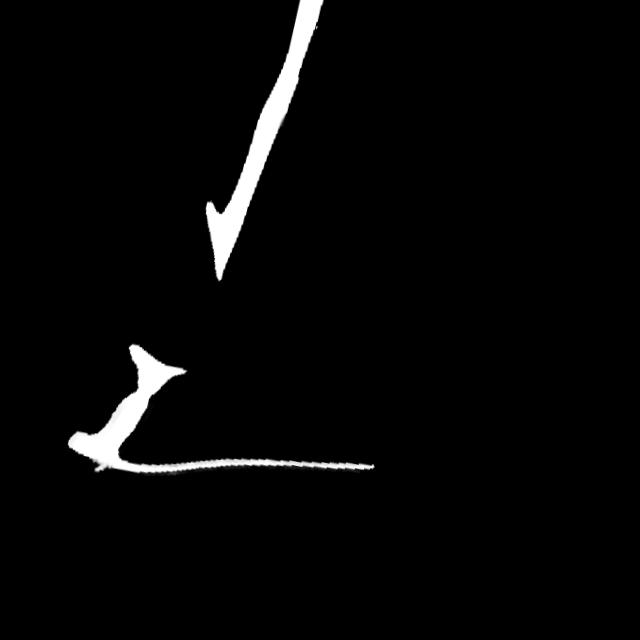sup_pli: (89, 459, 109, 478)
